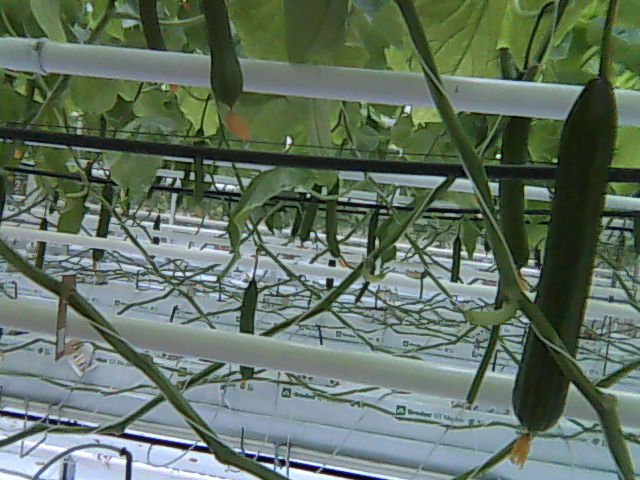concombre: (509, 57, 620, 463)
